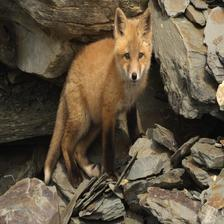fox: (43, 7, 164, 189)
